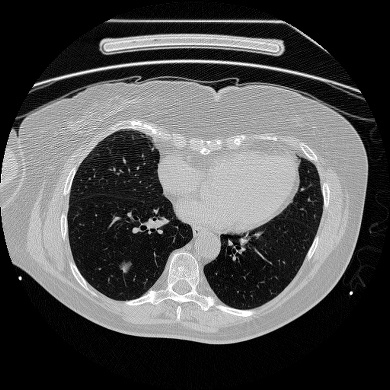PN: (121, 262, 131, 272)
